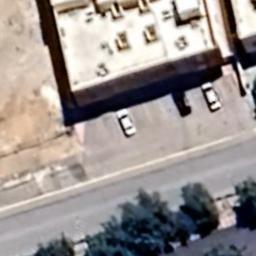sedan: (115, 108, 138, 138), (201, 82, 222, 112)
